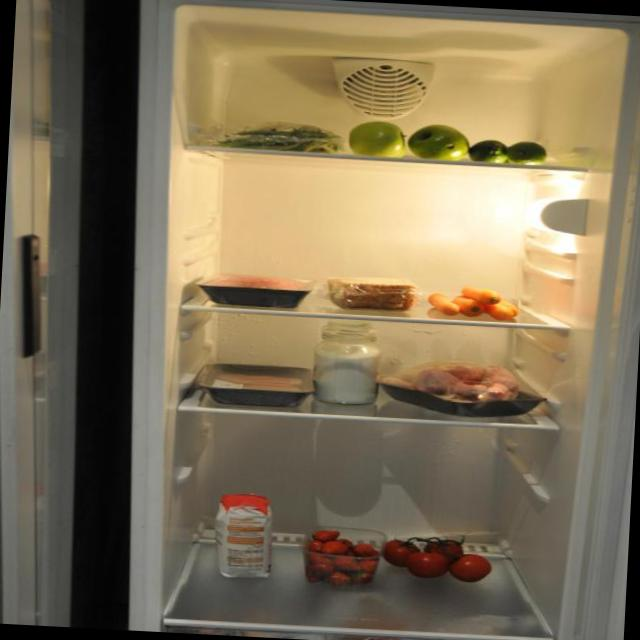Carne pollo: (377, 355, 527, 421), (204, 363, 308, 396)
Manzana: (346, 114, 471, 164)
Tomate: (382, 530, 493, 584)
Zanahoria: (426, 284, 524, 323)
